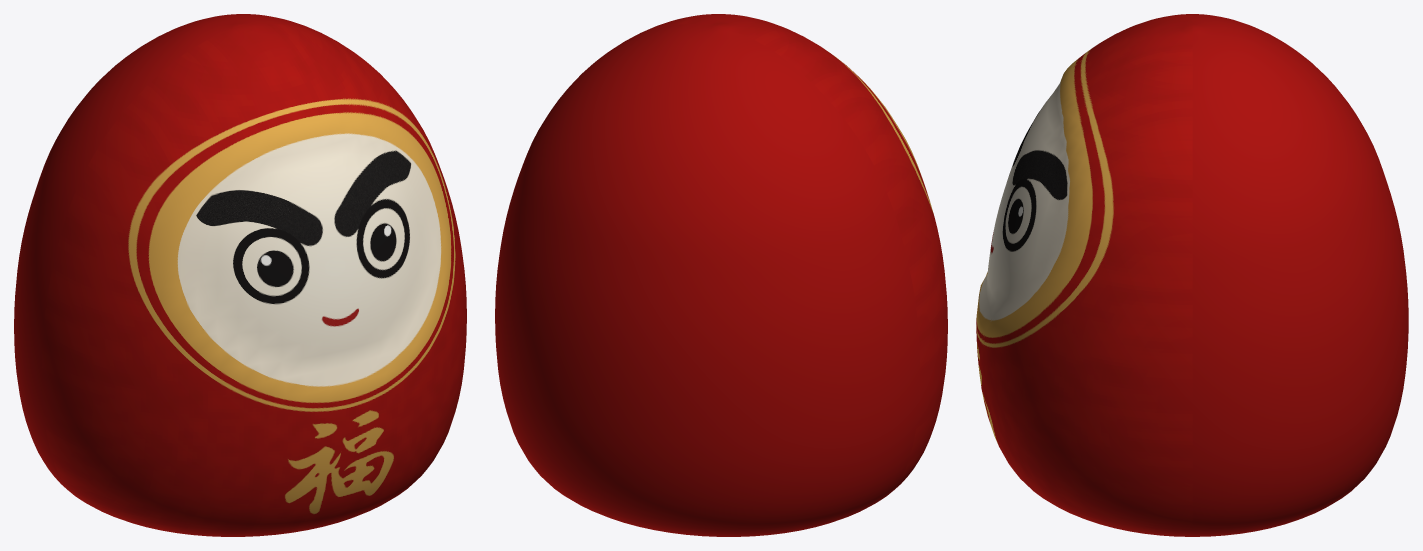
File: akadaru.fbx
3 renders of one model, left to right at view 1: azimuth 30°, elevation 25°; view 2: azimuth 150°, elevation 25°; view 3: azimuth 270°, elevation 25°, orthographic.
Parts seen in each view (by area): view 1: akadaru; view 2: akadaru; view 3: akadaru.
Boxes of the visible parts, x1,y1,x2,y2 form: akadaru: (14, 14, 466, 536); akadaru: (495, 14, 947, 536); akadaru: (976, 14, 1408, 536).
Size of the model in its own units: 0.9 by 0.9655 by 0.855.
Materials: 1 (1 with a texture image).
